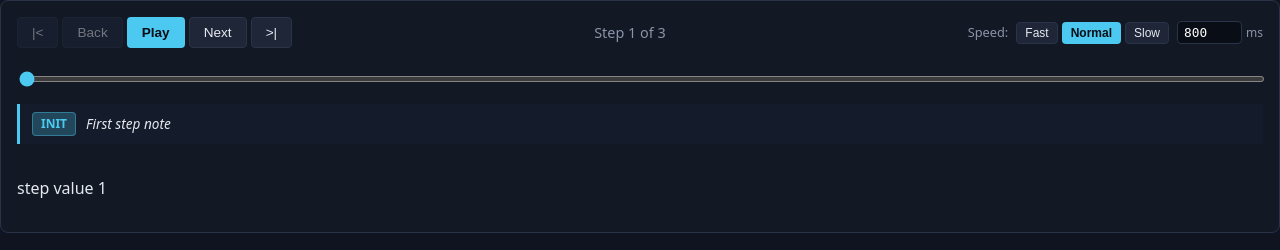
StepPlayer component › custom speed input allows free typing and clamps on blur
The image size is (1280, 250).
# Type freely
Replace the text in the number field titled "Speed in milliseconds (100 - 5000)" with "1200". click: (1210, 32)
box: [1177,21,1242,44]
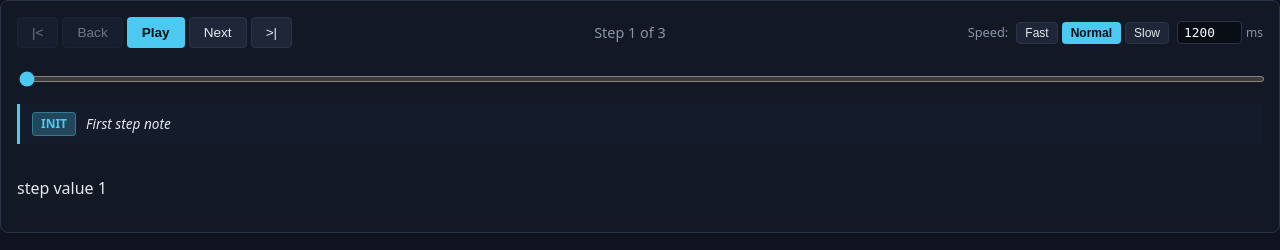
# Blur to commit
Leave the number field titled "Speed in milliseconds (100 - 5000)", box [1177,21,1242,44]
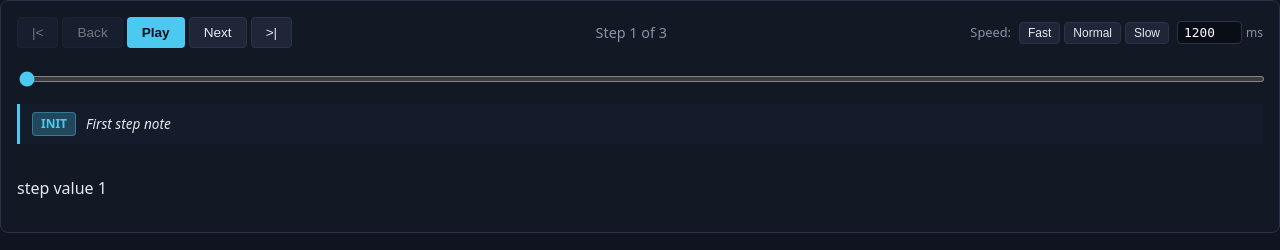
# Preset button updates speed
Click the button "Fast". click: (1040, 32)
box: [1019,22,1060,44]
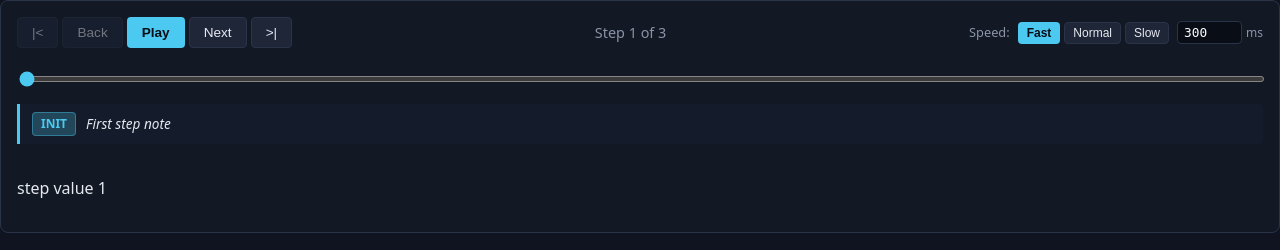
Result: the number field titled "Speed in milliseconds (100 - 5000)" holds "300"
# Excessively high speed clamps to 5000 on blur
Replace the text in the number field titled "Speed in milliseconds (100 - 5000)" with "99999". click: (1210, 32)
box: [1177,21,1242,44]
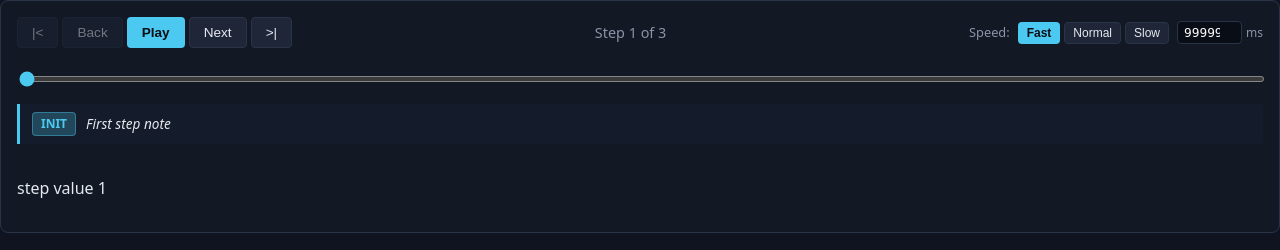
Leave the number field titled "Speed in milliseconds (100 - 5000)", box [1177,21,1242,44]
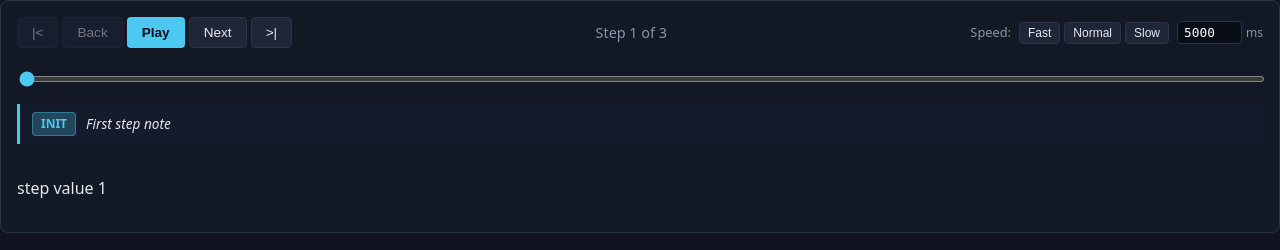
Result: the number field titled "Speed in milliseconds (100 - 5000)" holds "5000" at [1177,21,1242,44]
